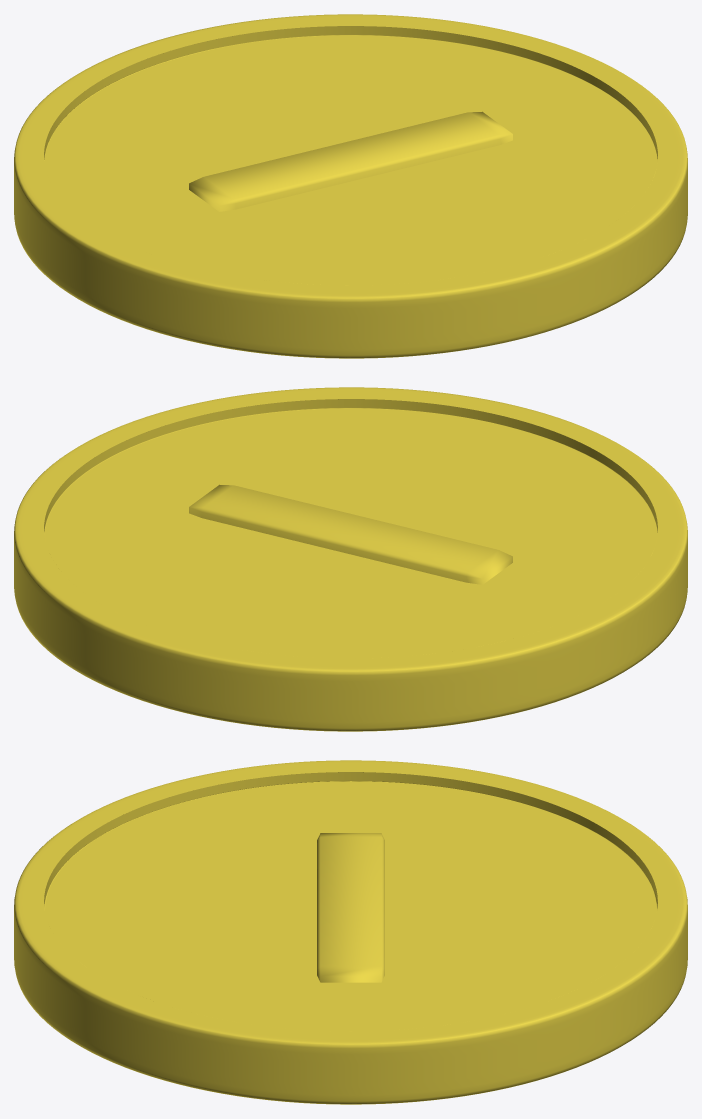
The model's file is coin.fbx.
The picture shows the model from 3 angles, top to bottom: view 1: azimuth 30°, elevation 25°; view 2: azimuth 150°, elevation 25°; view 3: azimuth 270°, elevation 25°; orthographic projection.
Visible parts, largest first — view 1: Cube; view 2: Cube; view 3: Cube.
Boxes of the visible parts, x1,y1,x2,y2 form: Cube: (14,14,687,358); Cube: (14,387,687,731); Cube: (14,760,687,1104).
Bounding box in the file's own units: 199 × 20 × 199.
